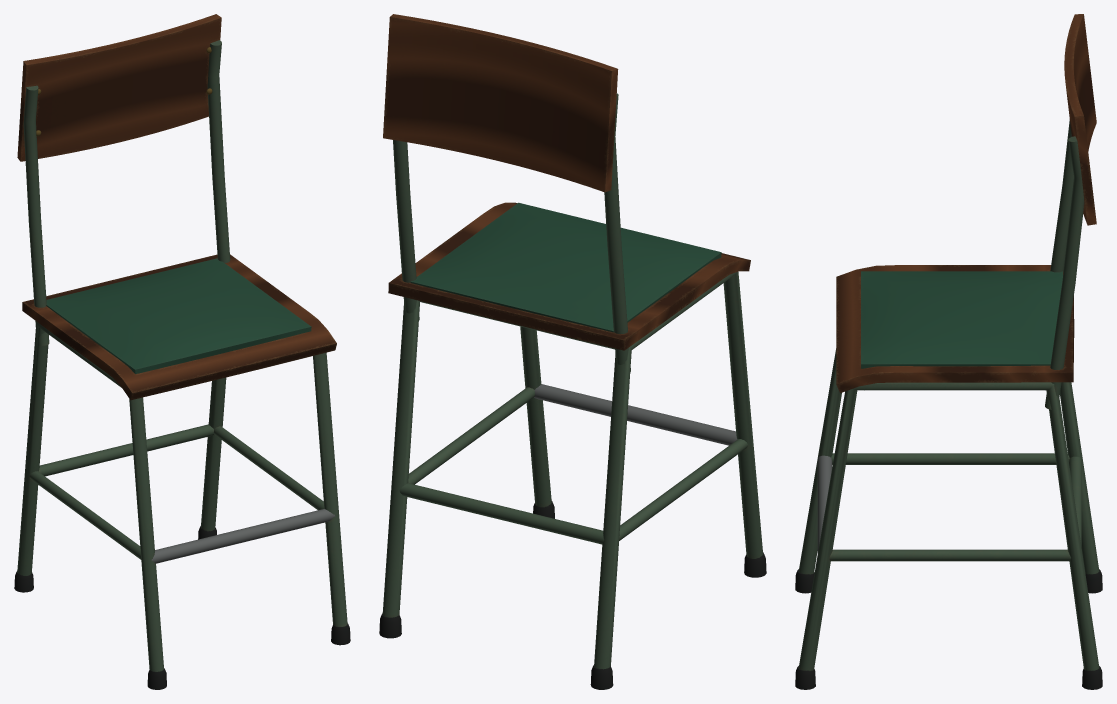
The model's file is CTCC_PROP_CH01DutyChair.fbx.
The picture shows the model from 3 angles, left to right: view 1: azimuth 30°, elevation 25°; view 2: azimuth 150°, elevation 25°; view 3: azimuth 270°, elevation 25°; orthographic projection. The views are drawn at different scales.
Parts seen in each view (by area): view 1: CTCC_PROP_CH01DutyChair_LOD0; view 2: CTCC_PROP_CH01DutyChair_LOD0; view 3: CTCC_PROP_CH01DutyChair_LOD0.
Boxes of the visible parts, x1=… form: CTCC_PROP_CH01DutyChair_LOD0: x1=14, y1=14, x2=350, y2=689; CTCC_PROP_CH01DutyChair_LOD0: x1=379, y1=14, x2=766, y2=689; CTCC_PROP_CH01DutyChair_LOD0: x1=795, y1=14, x2=1102, y2=689.
Size of what is drawn, in the model's own units: 0.4375 by 1.08 by 0.5251.
